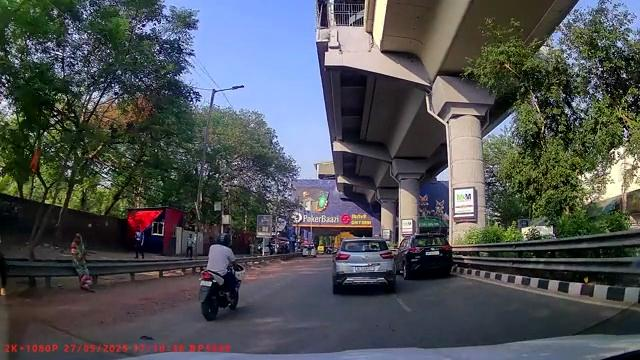motorcycle_with_helmet: (197, 232, 245, 322)
